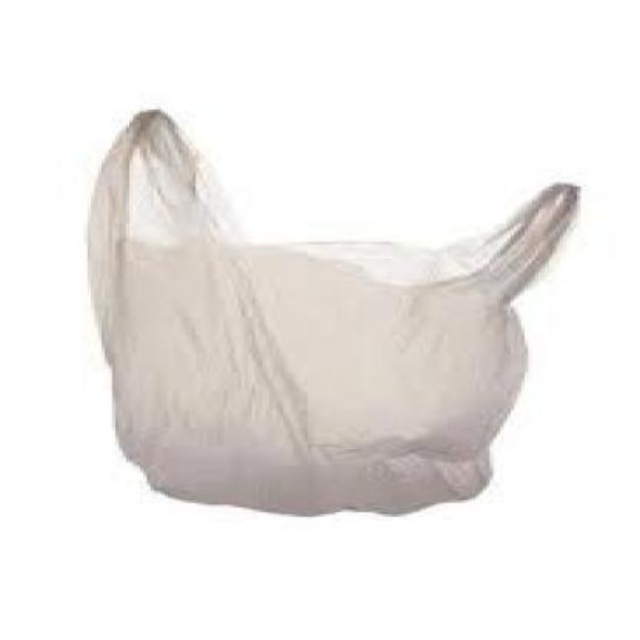trash: (89, 109, 577, 512)
